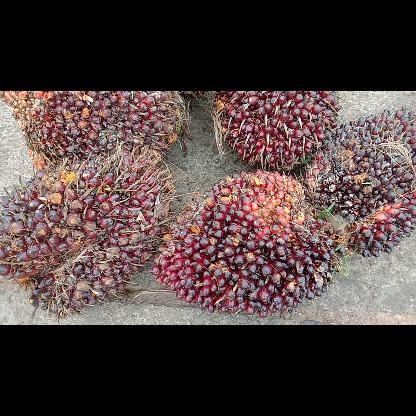Kurang masak: (0, 150, 177, 319), (150, 171, 348, 320), (303, 104, 415, 258), (0, 90, 192, 166), (207, 90, 342, 178)
